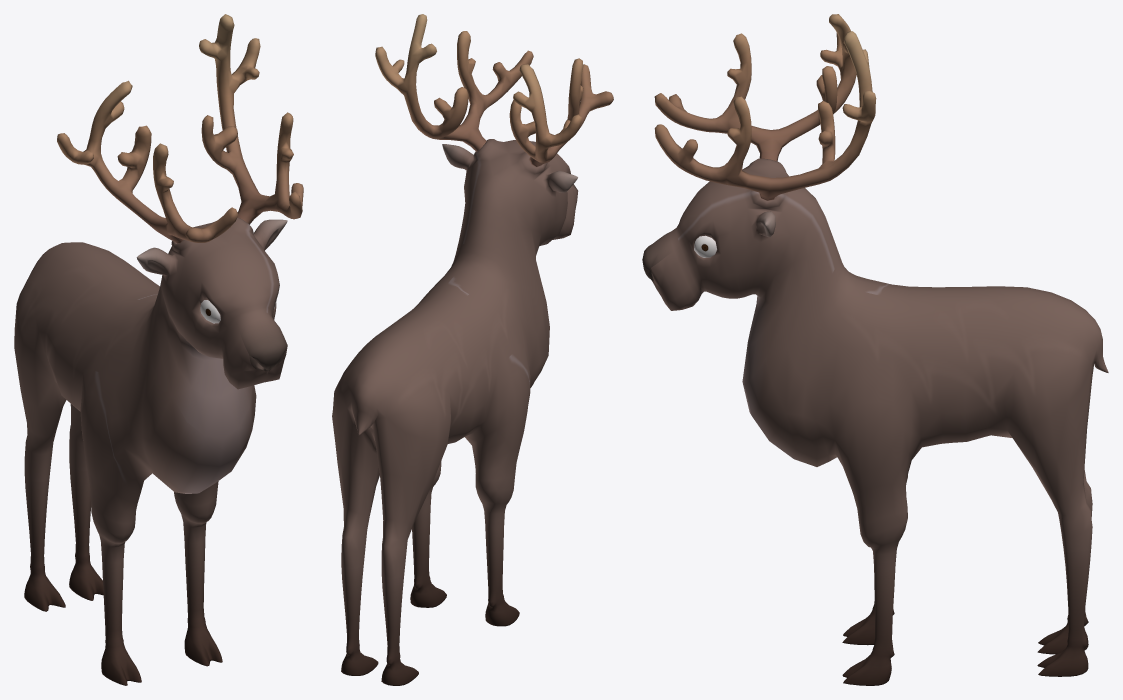
Rendered from deer.obj.
The picture shows the model from 3 angles, left to right: view 1: azimuth 30°, elevation 25°; view 2: azimuth 150°, elevation 25°; view 3: azimuth 270°, elevation 25°; orthographic projection. The views are drawn at different scales.
Visible parts, largest first — view 1: deer; view 2: deer; view 3: deer.
Boxes of the visible parts, <box> form: deer: <box>14,14,303,685</box>; deer: <box>332,14,613,685</box>; deer: <box>642,14,1108,685</box>.
Bounding box in the file's own units: 1.22 × 3.5 × 2.26.
